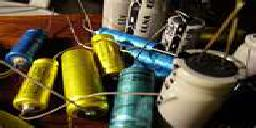Electrolytic-capacitor: (158, 39, 252, 128), (111, 63, 161, 128), (15, 56, 59, 122), (57, 47, 102, 110), (1, 22, 47, 68)
